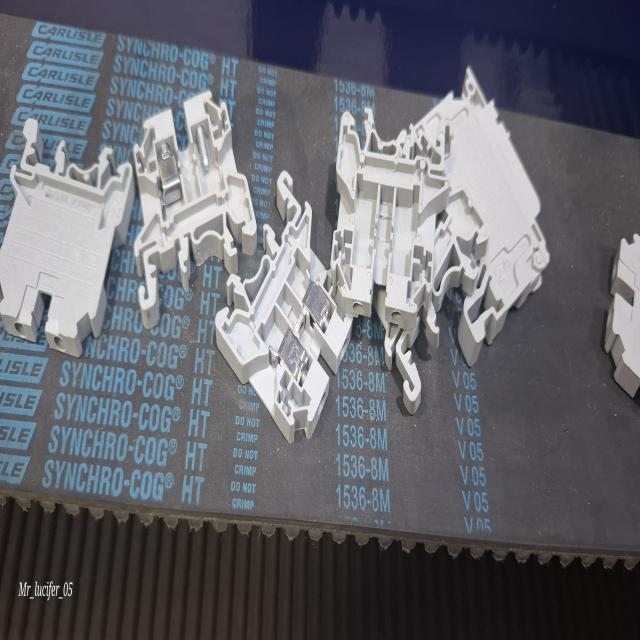Inverted: (0, 112, 132, 364)
Pass: (218, 170, 350, 432)
Reject: (127, 102, 261, 316), (331, 106, 439, 337)
